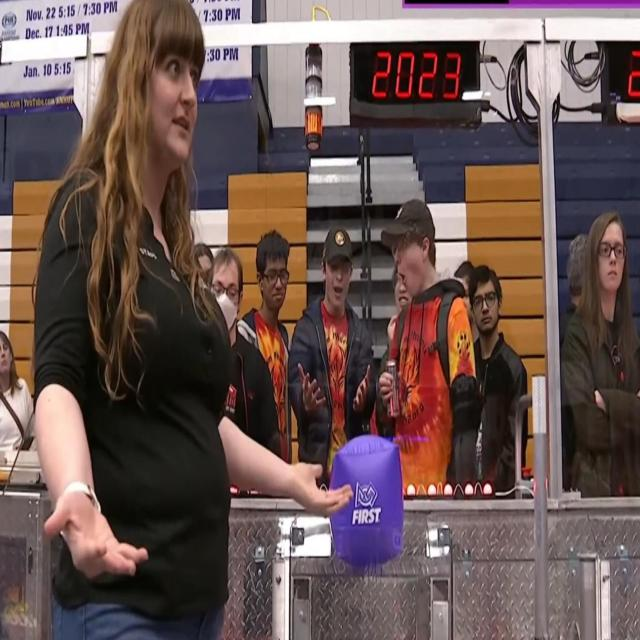frc_cube: (330, 435, 404, 568)
